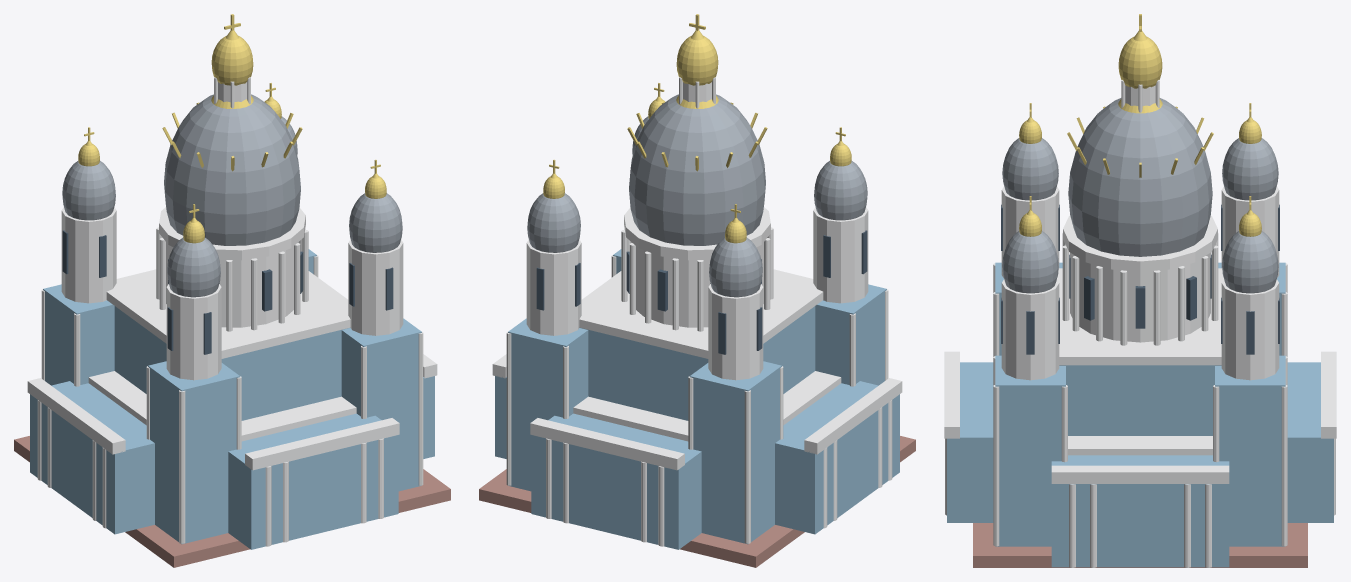
Rendered from smolny_cathedral.glb.
3 renders of one model, left to right at view 1: azimuth 30°, elevation 25°; view 2: azimuth 150°, elevation 25°; view 3: azimuth 270°, elevation 25°, orthographic. The views are drawn at different scales.
Parts seen in each view (by area): view 1: central_grand_dome, wing_0_-28.0, tower_base_0, wing_-28.0_0, smolny_tier2, tower_base_1, belt_course_2, tower_base_2, belfry_0, belfry_1, belfry_2, smolny_terrace (+13 smaller); view 2: central_grand_dome, wing_0_28.0, tower_base_2, wing_-28.0_0, smolny_tier2, tower_base_3, belt_course_2, tower_base_0, belfry_2, belfry_3, belfry_0, smolny_terrace (+13 smaller); view 3: central_grand_dome, wing_28.0_0, smolny_tier2, tower_base_1, tower_base_3, wing_0_28.0, wing_0_-28.0, central_drum_base, belt_course_2, belfry_1, belfry_3, smolny_terrace (+29 smaller).
Part boxes in pixels (<box>): central_grand_dome: <box>164,94,300,245</box>; wing_0_-28.0: <box>228,413,398,549</box>; tower_base_0: <box>148,361,240,544</box>; wing_-28.0_0: <box>30,381,154,534</box>; smolny_tier2: <box>114,306,350,420</box>; tower_base_1: <box>341,318,421,491</box>; belt_course_2: <box>106,269,350,358</box>; tower_base_2: <box>43,284,114,385</box>; belfry_0: <box>166,284,221,380</box>; belfry_1: <box>348,239,403,335</box>; belfry_2: <box>61,207,116,303</box>; smolny_terrace: <box>14,436,450,567</box>; central_grand_dome: <box>629,94,765,245</box>; wing_0_28.0: <box>531,413,701,549</box>; tower_base_2: <box>689,361,781,544</box>; wing_-28.0_0: <box>775,381,899,534</box>; smolny_tier2: <box>579,306,815,420</box>; tower_base_3: <box>508,318,588,491</box>; belt_course_2: <box>579,269,823,358</box>; tower_base_0: <box>815,284,886,385</box>; belfry_2: <box>708,284,763,380</box>; belfry_3: <box>526,239,581,335</box>; belfry_0: <box>813,207,868,303</box>; smolny_terrace: <box>479,436,915,567</box>; central_grand_dome: <box>1068,98,1212,256</box>; wing_28.0_0: <box>1051,455,1229,567</box>; smolny_tier2: <box>1059,365,1221,435</box>; tower_base_1: <box>995,355,1065,546</box>; tower_base_3: <box>1215,355,1285,546</box>; wing_0_28.0: <box>1287,362,1333,522</box>; wing_0_-28.0: <box>947,362,993,522</box>; central_drum_base: <box>1070,252,1210,342</box>; belt_course_2: <box>1057,268,1223,365</box>; belfry_1: <box>1001,279,1059,380</box>; belfry_3: <box>1221,279,1279,380</box>; smolny_terrace: <box>973,523,1307,567</box>.
Size of the model in its own units: 75 by 102 by 75.
